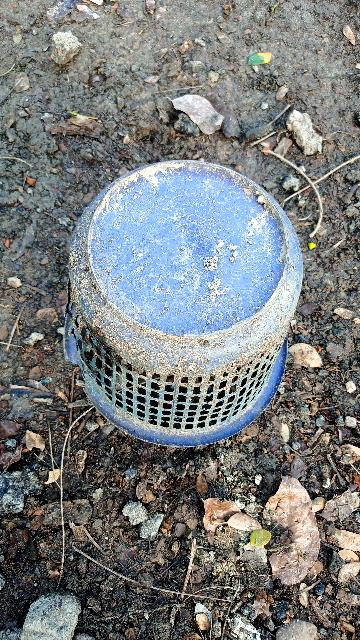hardplastic: (62, 163, 307, 423)
